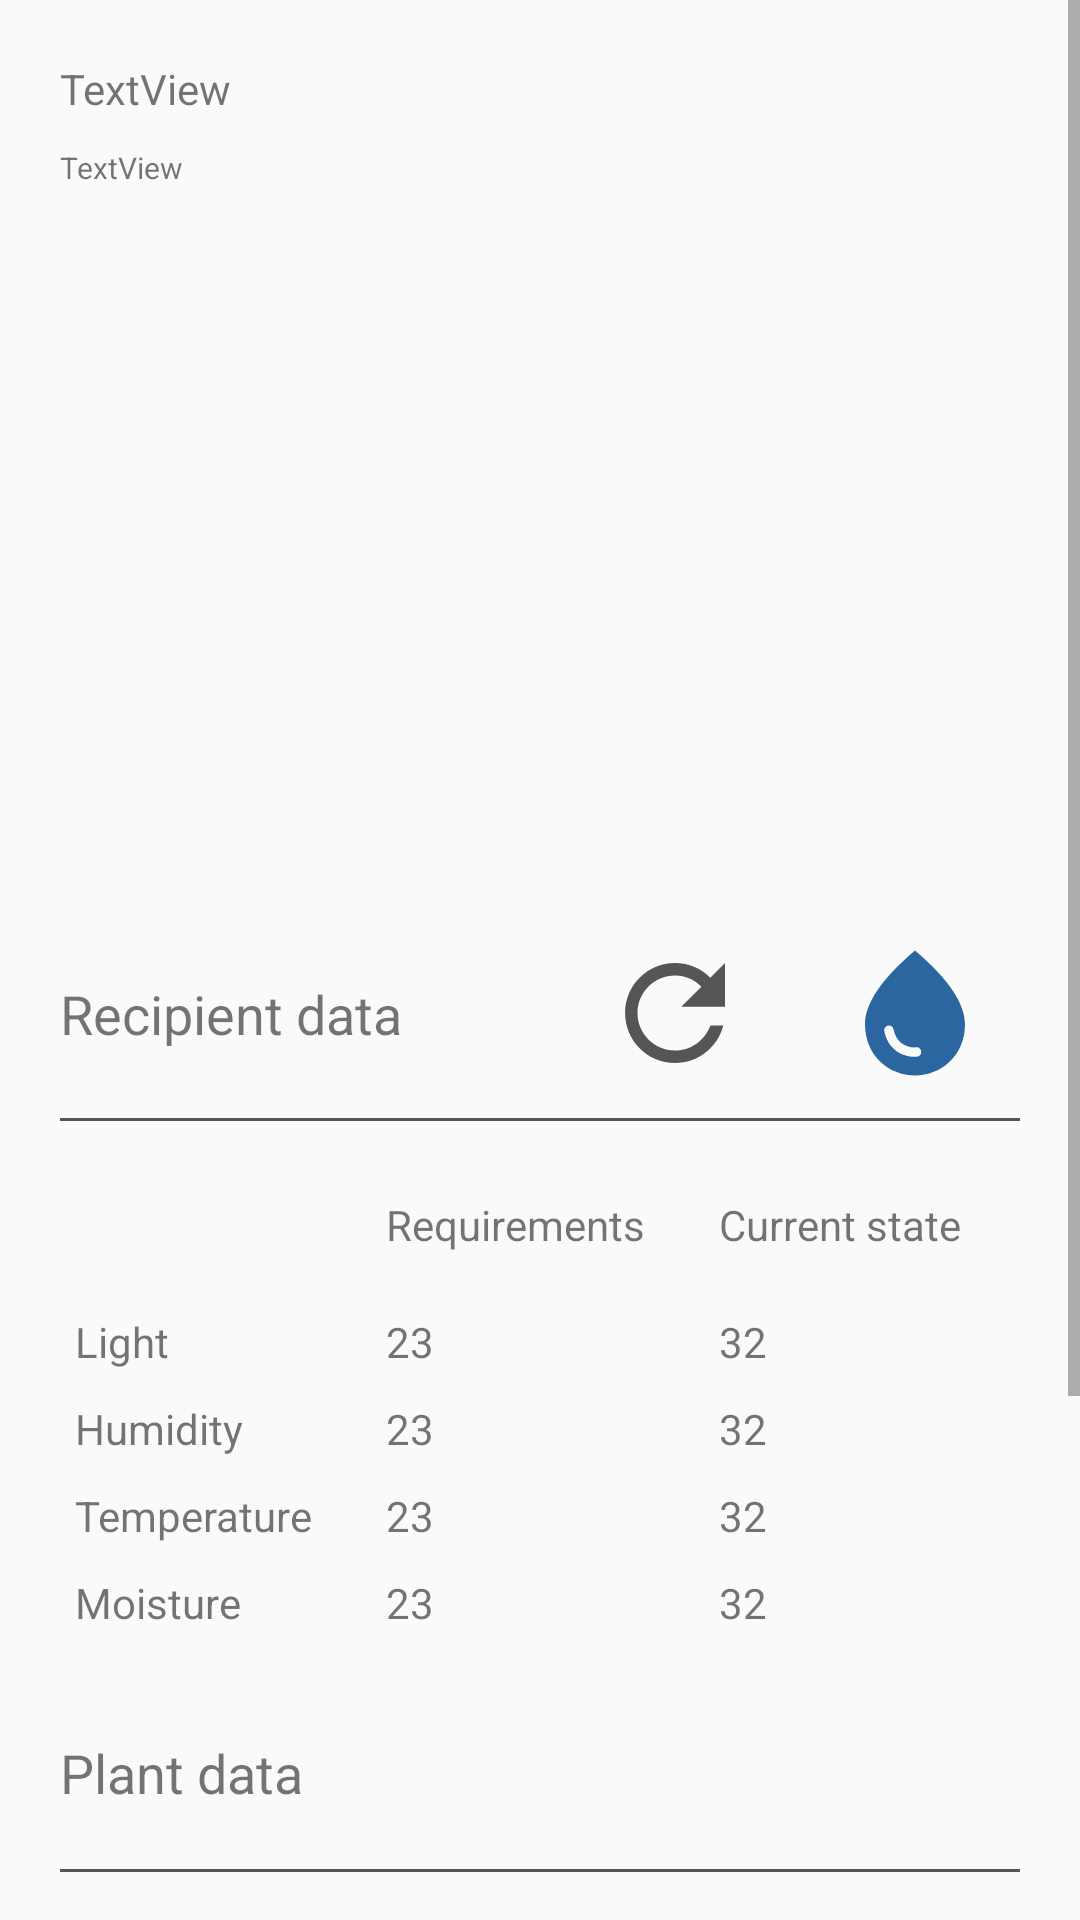

Named icons in this screenshot (1080*1920) and their centers, [x,y]:
refresh: [675,1013]
water drop: [915,1013]
